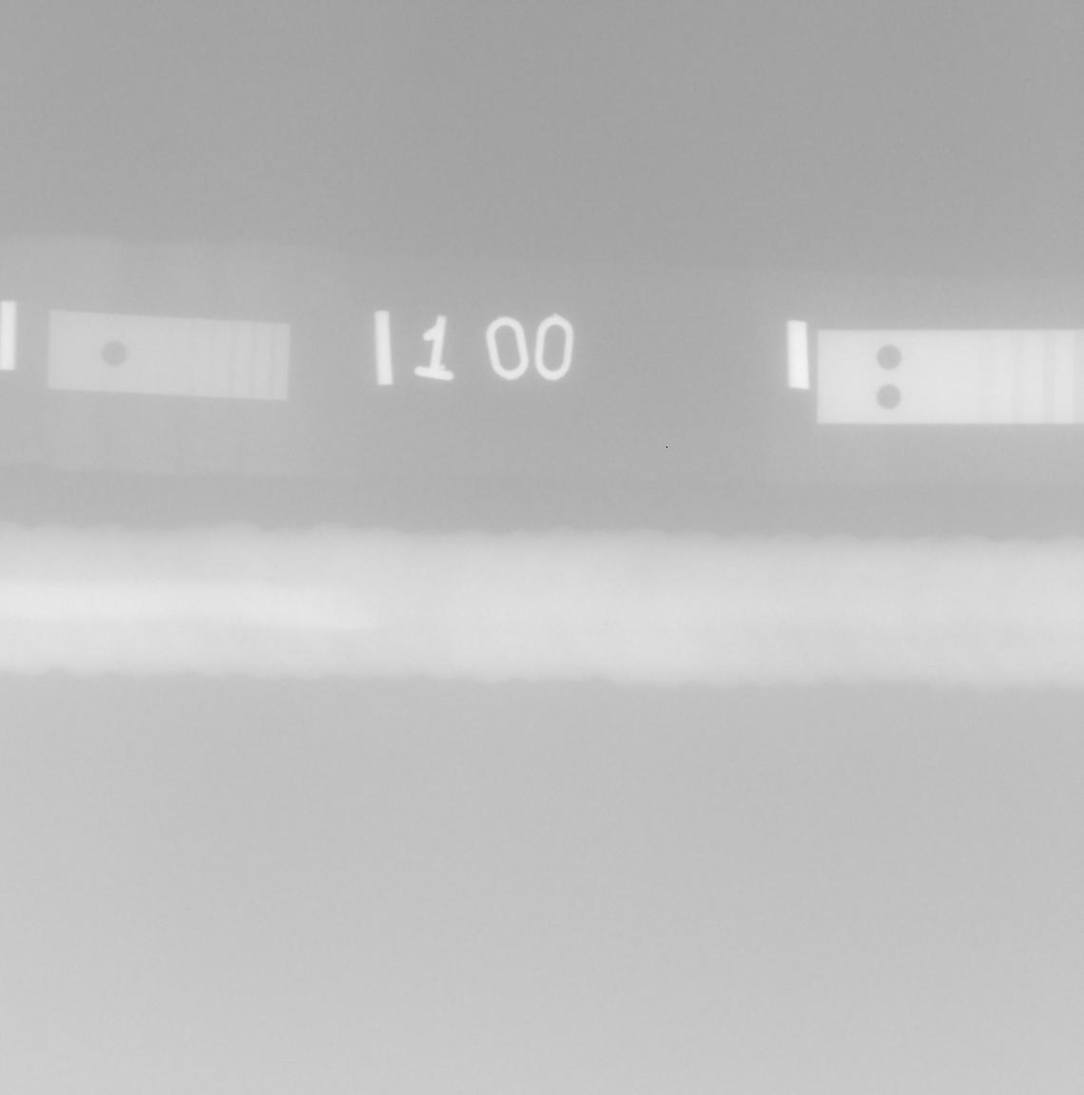Reference Standard 1: (46, 311, 290, 401)
